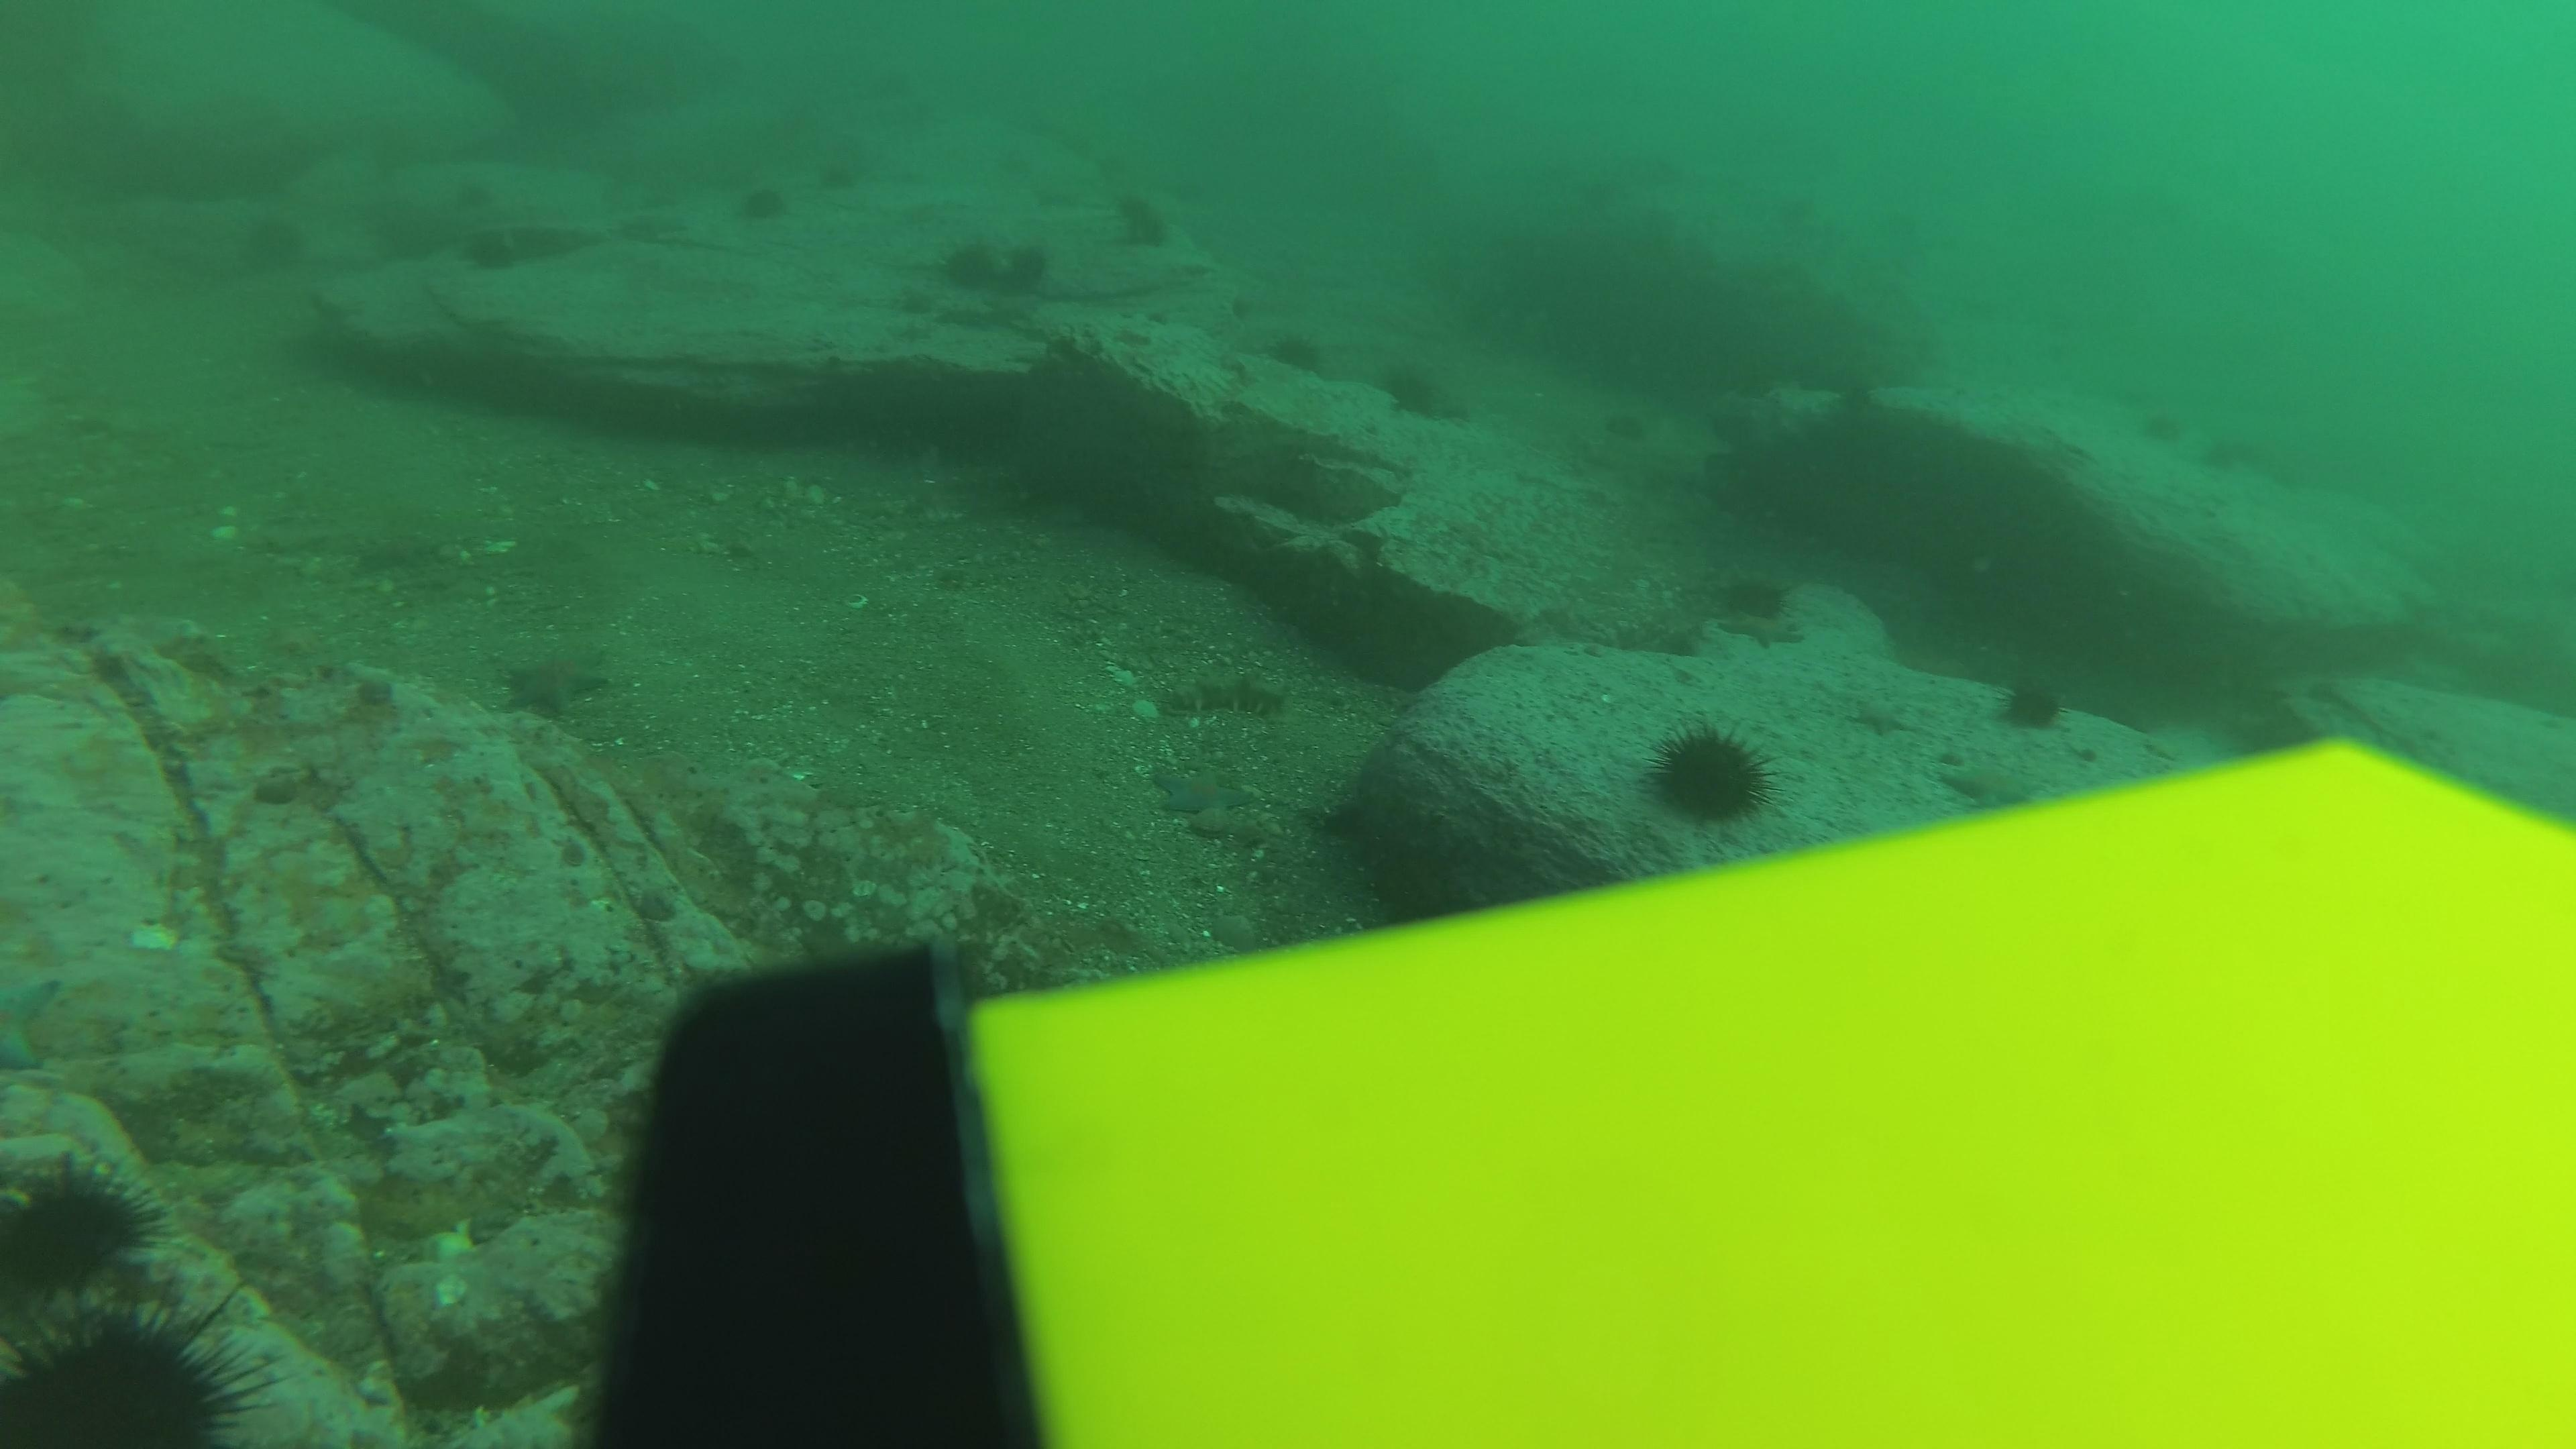echinus: (0, 1288, 272, 1442), (0, 1152, 159, 1302), (1642, 718, 1778, 830), (1990, 669, 2074, 738), (1375, 356, 1454, 425), (1718, 566, 1799, 623), (1596, 400, 1654, 448), (1000, 248, 1049, 303), (950, 237, 1000, 292), (1269, 331, 1327, 377), (465, 228, 517, 271), (741, 182, 791, 225), (814, 166, 863, 209), (1125, 214, 1175, 251), (449, 175, 494, 211), (2201, 441, 2242, 476), (1836, 382, 1877, 416), (2141, 409, 2181, 442), (1123, 200, 1159, 225)
holothurian: (1175, 663, 1286, 722)
starfish: (497, 642, 616, 718), (0, 959, 65, 1079), (1148, 761, 1258, 823), (1932, 757, 2049, 810), (1704, 603, 1808, 655), (1845, 694, 1911, 741)
